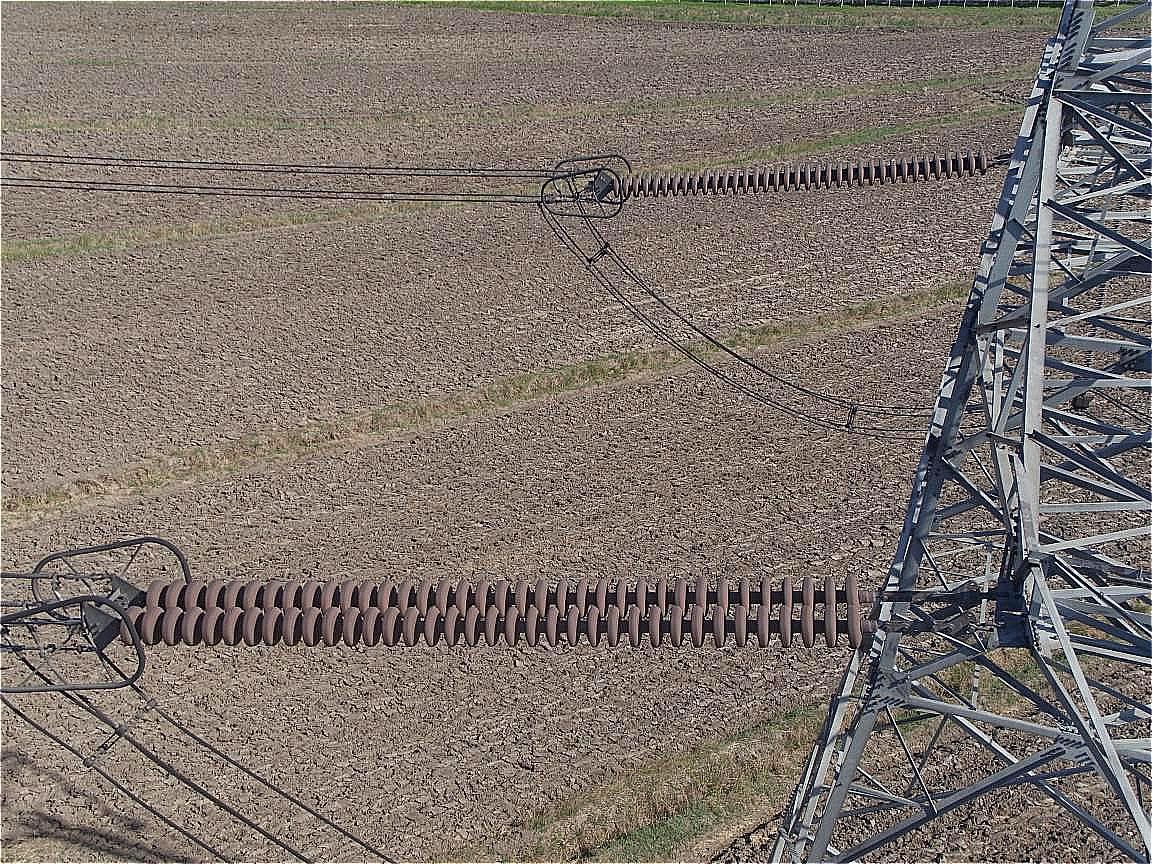insultor1: (97, 566, 878, 678), (575, 136, 1002, 205)
